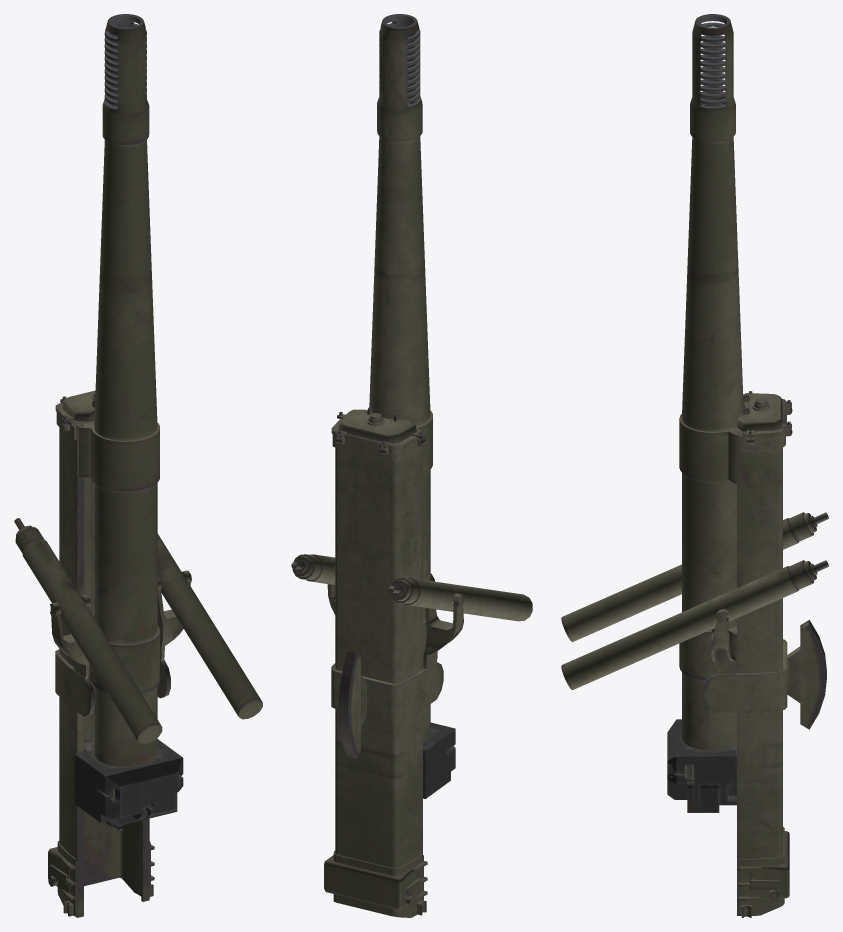
The model's file is Gun_01.glb.
3 renders of one model, left to right at view 1: azimuth 30°, elevation 25°; view 2: azimuth 150°, elevation 25°; view 3: azimuth 270°, elevation 25°, orthographic. The views are drawn at different scales.
Parts seen in each view (by area): view 1: set_0_group_0; view 2: set_0_group_0; view 3: set_0_group_0.
Part boxes in pixels (left/top/right/bottom): set_0_group_0: left=14, top=14, right=262, bottom=917; set_0_group_0: left=291, top=14, right=532, bottom=917; set_0_group_0: left=561, top=14, right=828, bottom=917.
Bounding box in the file's own units: 0.8905 × 5.61 × 1.55.
1 material, 1 textured.
